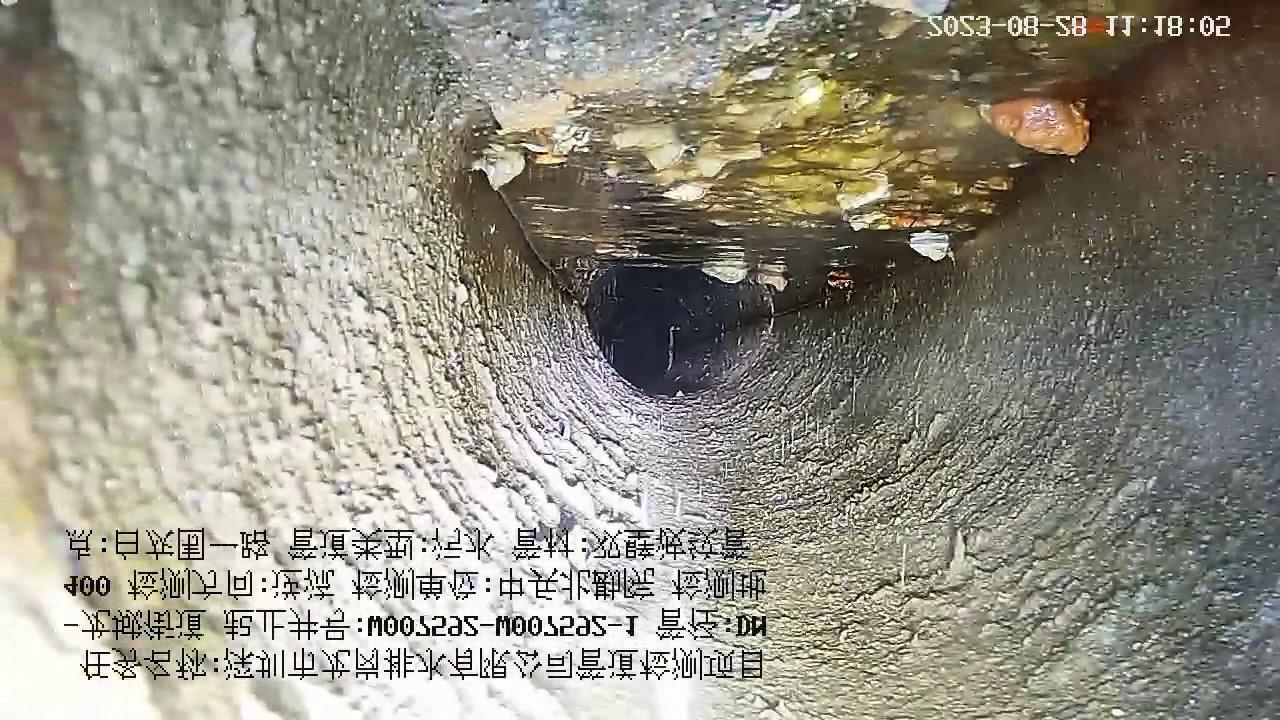CJ: (430, 1, 1229, 268)
JG: (0, 1, 1279, 720)
